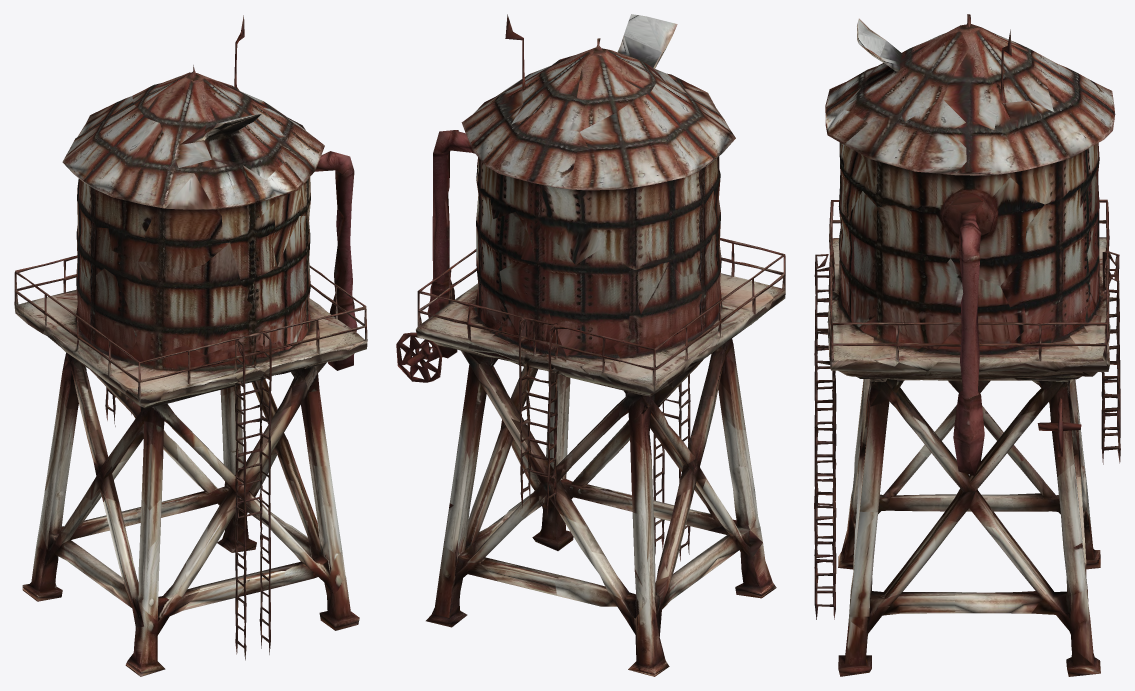
File: water_tower.glb
3 renders of one model, left to right at view 1: azimuth 30°, elevation 25°; view 2: azimuth 150°, elevation 25°; view 3: azimuth 270°, elevation 25°, orthographic. The views are drawn at different scales.
Visible parts, largest first — view 1: mesh_node; view 2: mesh_node; view 3: mesh_node.
Part boxes in pixels (left/top/right/bottom): mesh_node: left=14, top=15, right=367, bottom=676; mesh_node: left=396, top=14, right=785, bottom=676; mesh_node: left=814, top=14, right=1120, bottom=676.
Size of the model in its own units: 0.9869 by 1.9 by 0.8417.
Materials: 1 (1 with a texture image).
